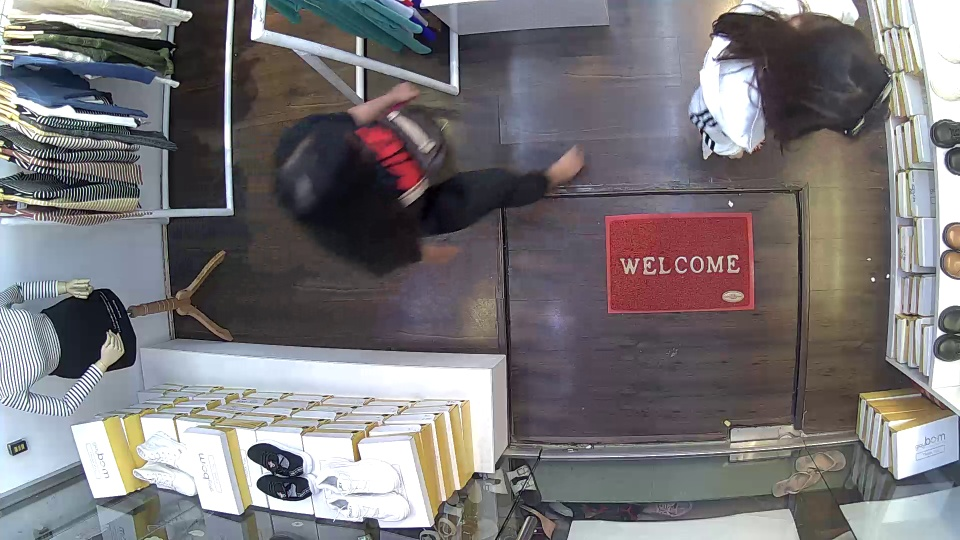topviewhead: (777, 16, 899, 146), (268, 117, 373, 227)
